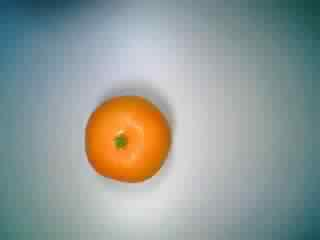orange: (79, 90, 176, 184)
